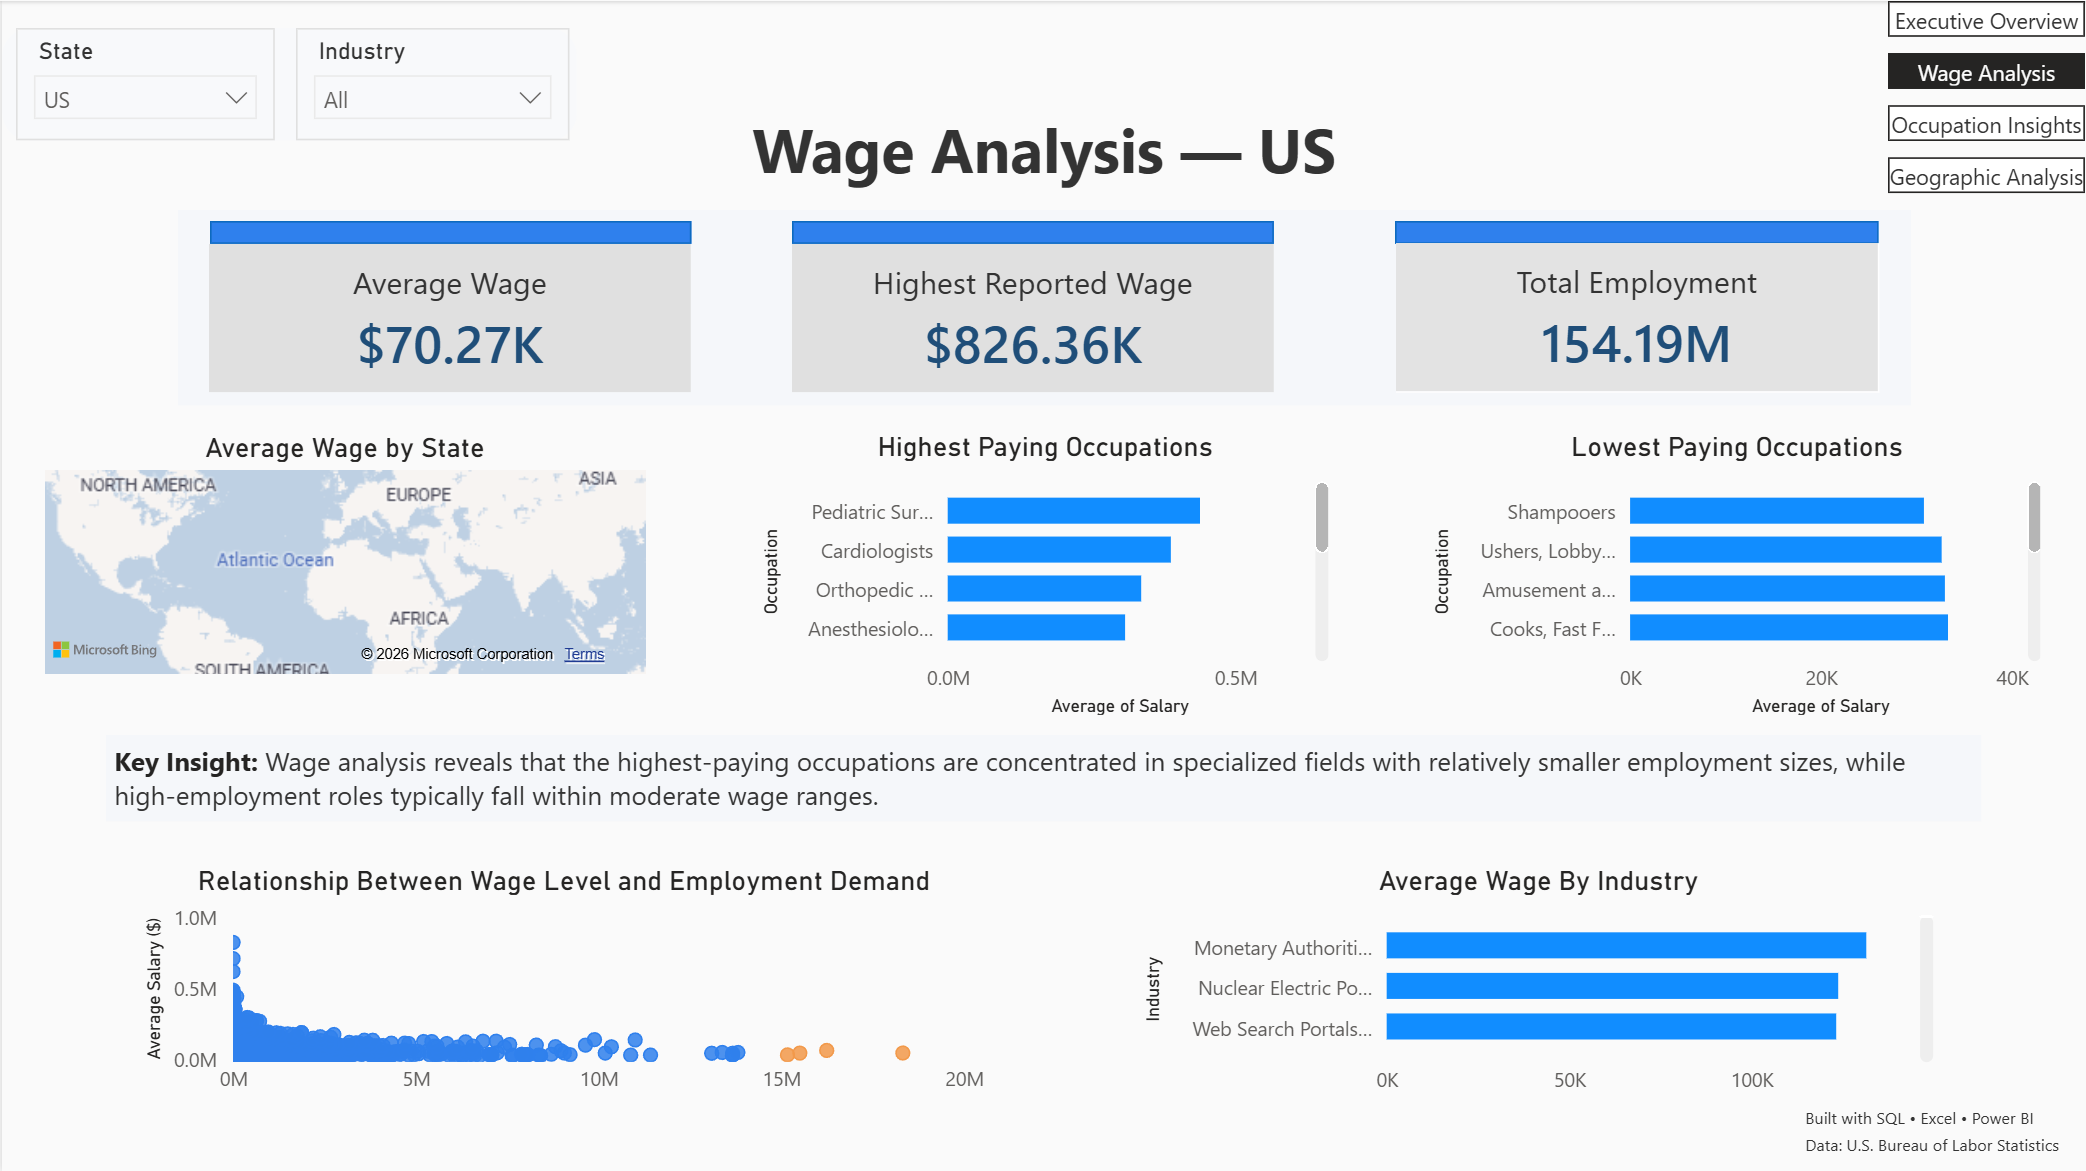

What the dashboard file says about the page in this screenshot:
{"tool":"powerbi","page":{"name":"Wage Analysis","canvas":[1280,720],"ordinal":1},"visuals":[{"type":"shape","box":[63.8,450.9,1152.4,53],"z":0},{"type":"shape","box":[108,128.3,1064.7,120.4],"z":1000},{"type":"shape","box":[855.9,135.5,297.2,14.1],"z":1000,"group":"g1"},{"type":"shape","box":[0,16.4,353.4,69.4],"z":2000},{"type":"shape","box":[485.1,135.5,296.1,14.1],"z":2000,"group":"g1"},{"type":"slicer","fields":{"Values":["cleaned_data.Industry"]},"box":[180.6,16.4,167.5,69.4],"z":3000},{"type":"shape","box":[127.4,135.5,295.7,14.1],"z":3000,"group":"g1"},{"type":"cardVisual","title":"Average Salary","fields":{"Data":["Avg(cleaned_data.Salary)"]},"box":[127,149.6,296.1,91.2],"z":4000,"group":"g2"},{"type":"textbox","box":[1102.7,667.8,177.5,52.2],"z":4000},{"type":"pageNavigator","box":[1158.4,0,121.6,119.2],"z":5000},{"type":"cardVisual","fields":{"Data":["cleaned_data.TotalOccupations"]},"box":[856.1,148.8,296.6,92],"z":6000,"group":"g2"},{"type":"filledMap","title":"Average Wage by State","fields":{"Category":["cleaned_data.State"],"Series":["cleaned_data.Country"]},"box":[21.6,263.9,378.6,154.3],"z":6000},{"type":"cardVisual","title":"Median Salary","fields":{"Data":["cleaned_data.Max Salary"]},"box":[485.3,149.6,296.1,91.2],"z":7000,"group":"g2"},{"type":"clusteredBarChart","title":"Highest Paying Occupations","fields":{"Category":["cleaned_data.Occupation"],"Y":["Avg(cleaned_data.Salary)"]},"box":[462,263.7,358,180],"z":8000},{"type":"clusteredBarChart","title":"Lowest Paying Occupations","fields":{"Category":["cleaned_data.Occupation"],"Y":["Avg(cleaned_data.Salary)"]},"box":[874.3,263.7,383.5,180],"z":9000},{"type":"group","id":"g1","title":"Group 3","box":[127,135.5,1026.1,105.4],"z":10000},{"type":"group","id":"g2","title":"Group 1","box":[127,148.8,1025.7,92],"z":10000,"group":"g1"},{"type":"scatterChart","title":"Relationship Between Wage Level and Employment Demand","fields":{"Y":["cleaned_data.Salary"],"X":["cleaned_data.WA Employment"]},"box":[83.1,530.1,524.8,150.5],"z":10000,"group":"g3"},{"type":"textbox","box":[206.8,65.4,866.4,77.2],"z":11000},{"type":"clusteredBarChart","title":"Average Wage By Industry","fields":{"Category":["cleaned_data.Industry"],"Y":["Avg(cleaned_data.Salary)"]},"box":[696.6,530.1,494.7,150.7],"z":11000,"group":"g3"},{"type":"textbox","box":[63.8,450.9,1152.4,53],"z":12000},{"type":"group","id":"g3","title":"Group 2","box":[83.1,530.1,1108.5,150.5],"z":13000},{"type":"slicer","fields":{"Values":["cleaned_data.state"]},"box":[8.5,16.4,159,69.4],"z":13500}]}

Visuals, with their boxes in screenshot pixels (x1, y1, x2, y2), scaled from the page's 1280x720 canvas onto the 2086x1171 screenshot:
shape: 104:733:1982:820
shape: 176:209:1911:404
shape: 1395:220:1879:243
shape: 0:27:576:140
shape: 791:220:1273:243
slicer - cleaned_data.Industry: 294:27:567:140
shape: 208:220:690:243
"Average Salary" cardVisual: 207:243:690:392
textbox: 1797:1086:2085:1170
pageNavigator: 1888:0:2085:194
cardVisual - cleaned_data.TotalOccupations: 1395:242:1879:392
"Average Wage by State" filledMap: 35:429:652:680
"Median Salary" cardVisual: 791:243:1273:392
"Highest Paying Occupations" clusteredBarChart: 753:429:1336:722
"Lowest Paying Occupations" clusteredBarChart: 1425:429:2050:722
"Group 3" group: 207:220:1879:392
"Group 1" group: 207:242:1879:392
"Relationship Between Wage Level and Employment Demand" scatterChart: 135:862:991:1107
textbox: 337:106:1749:232
"Average Wage By Industry" clusteredBarChart: 1135:862:1941:1107
textbox: 104:733:1982:820
"Group 2" group: 135:862:1942:1107
slicer - cleaned_data.state: 14:27:273:140
